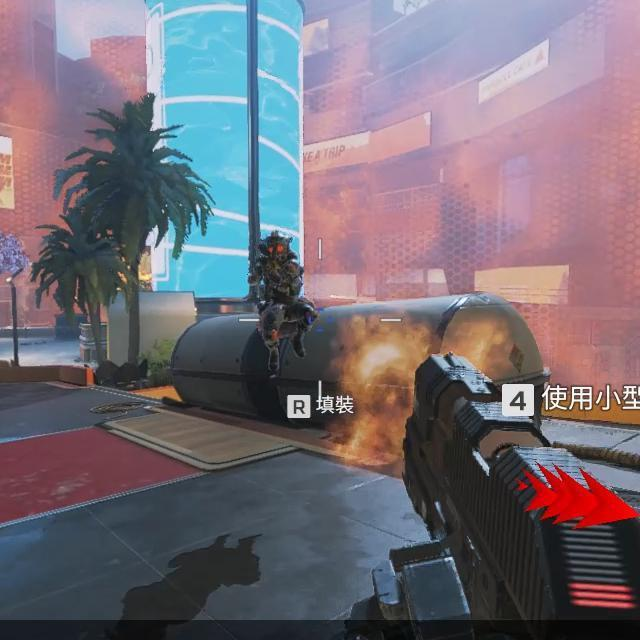avatar: (250, 227, 319, 383)
